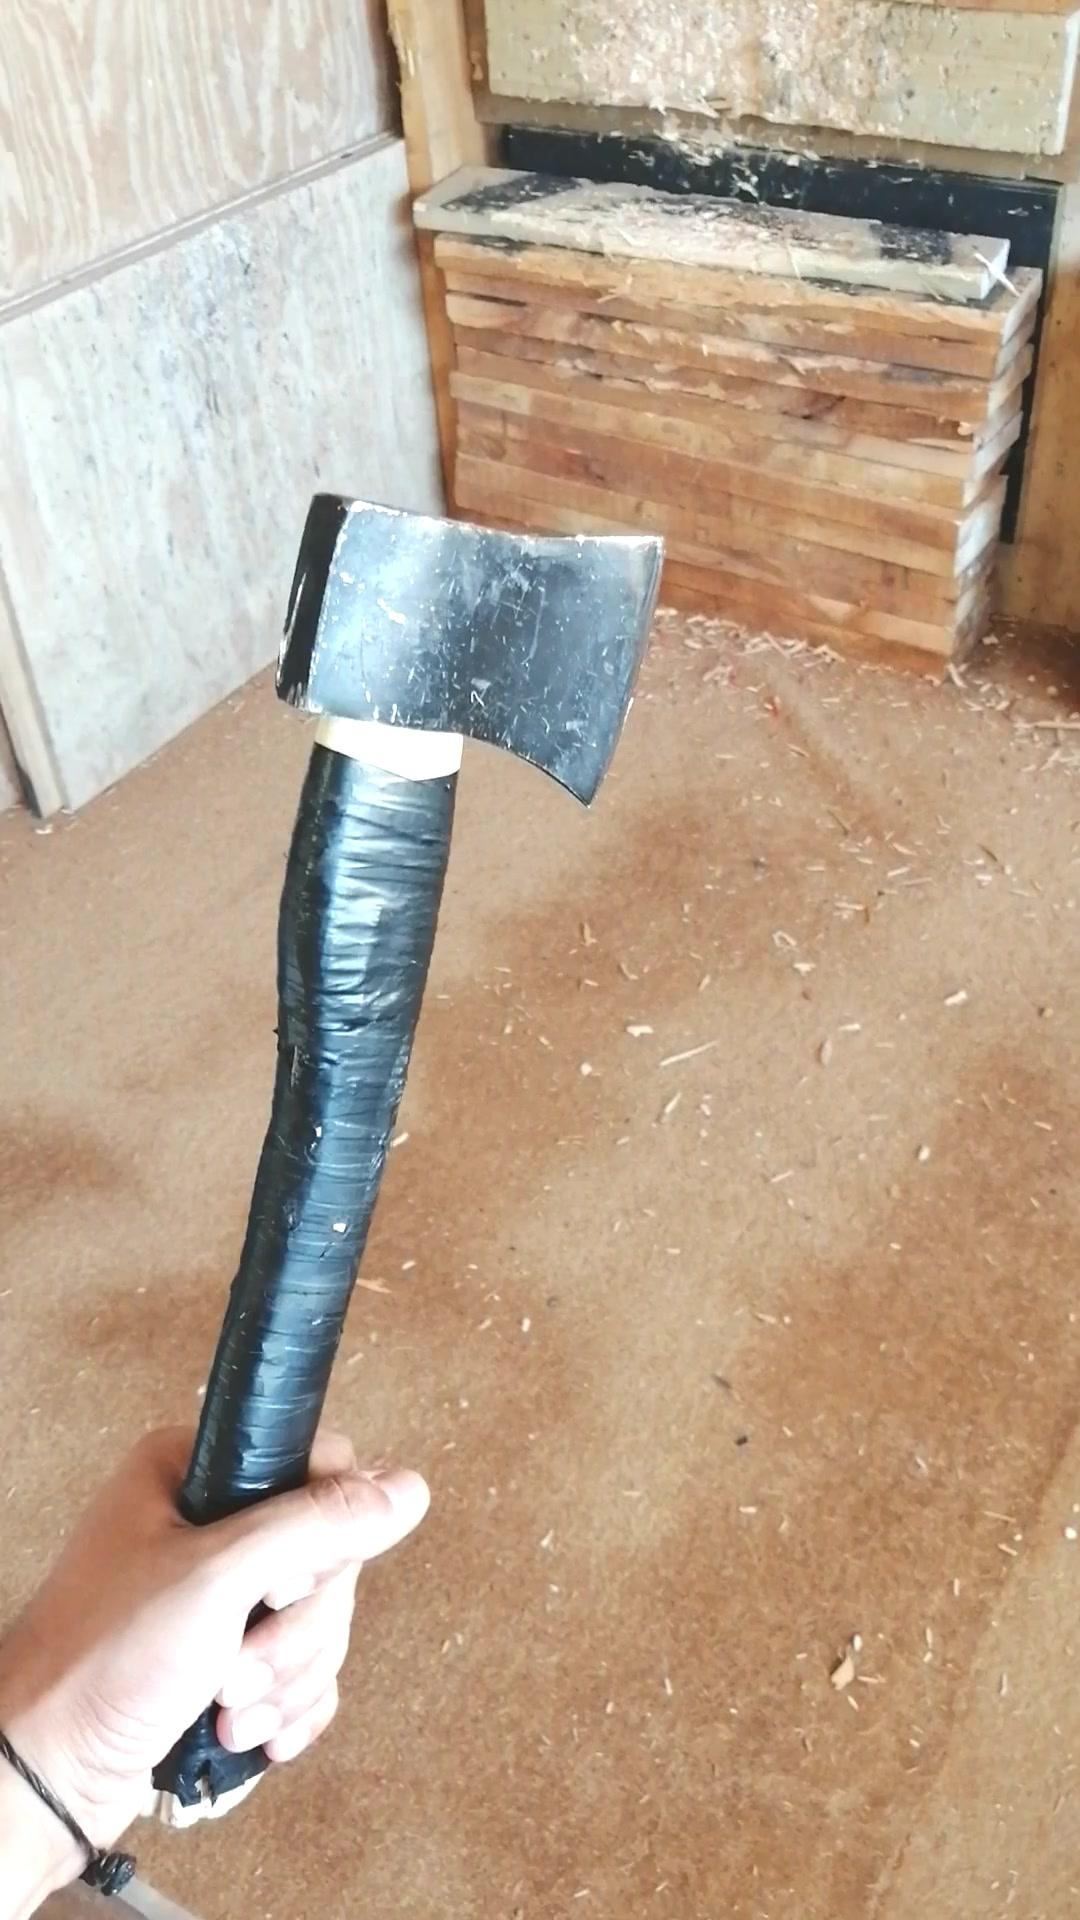Hand Axe: (272, 488, 669, 814)
